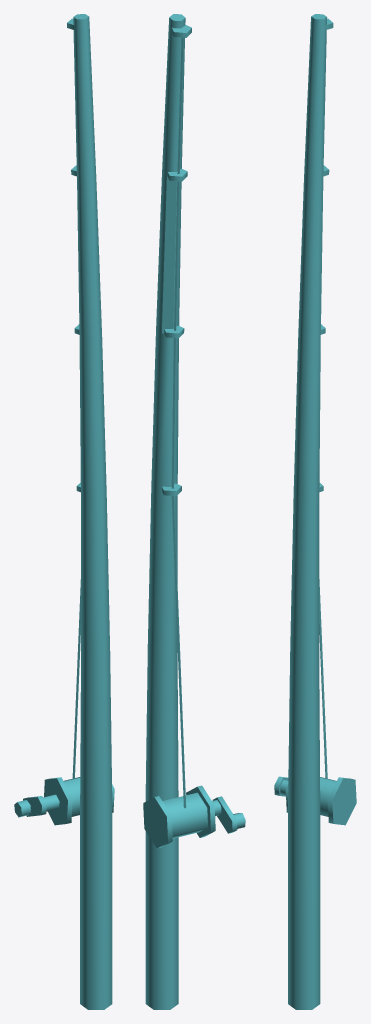
Rendered from SM_FishingRod.fbx.
3 renders of one model, left to right at view 1: azimuth 30°, elevation 25°; view 2: azimuth 210°, elevation 25°; view 3: azimuth 330°, elevation 25°, orthographic. The views are drawn at different scales.
Visible parts, largest first — view 1: Rod, Spool; view 2: Rod, Spool; view 3: Rod, Spool.
Part boxes in pixels (left/top/right/bottom): Rod: left=67, top=14, right=112, bottom=1009; Spool: left=14, top=777, right=114, bottom=825; Rod: left=145, top=14, right=191, bottom=1009; Spool: left=143, top=785, right=245, bottom=848; Rod: left=288, top=14, right=333, bottom=1009; Spool: left=274, top=776, right=356, bottom=825.
Size of the model in its own units: 16 by 200 by 14.77.
